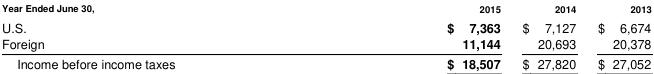table: (1, 0, 650, 71)
table column: (1, 0, 310, 71), (310, 0, 510, 71), (510, 0, 586, 71), (586, 0, 650, 71)
table column header: (1, 0, 650, 16)
table row: (1, 16, 650, 35), (1, 52, 650, 71), (1, 35, 650, 52), (1, 0, 650, 16)
